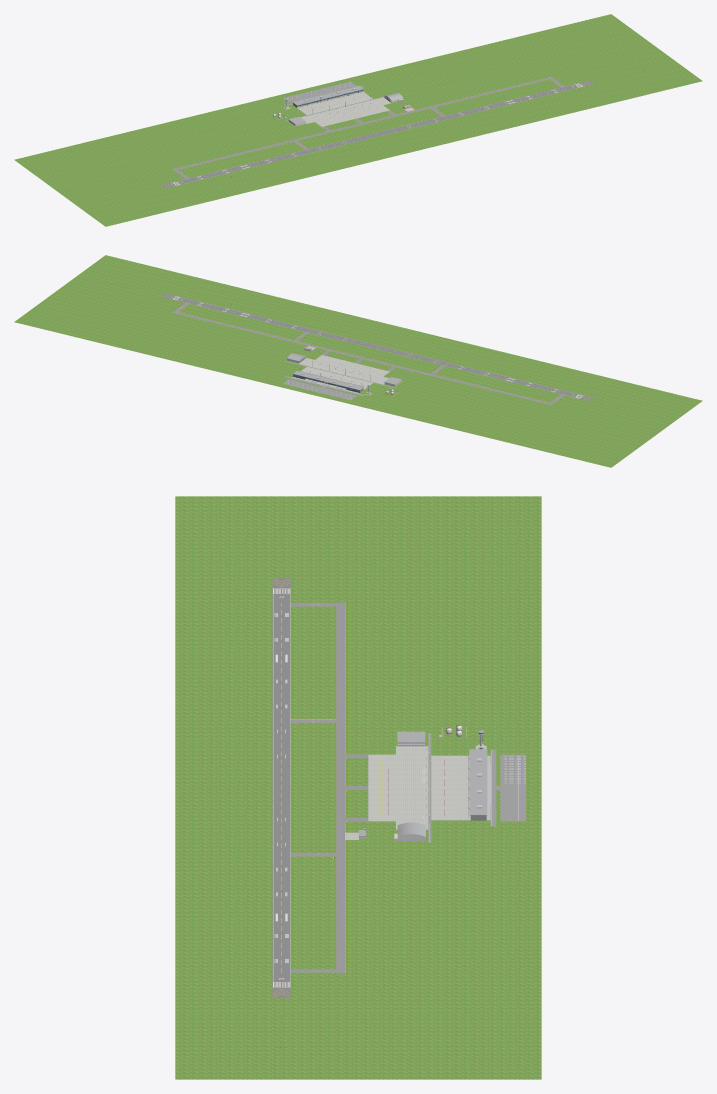
File: Airport.glb
3 views of the same model, one above another, from view 1: azimuth 30°, elevation 25°; view 2: azimuth 150°, elevation 25°; view 3: azimuth 270°, elevation 25° (orthographic). The views are drawn at different scales.
Parts seen in each view (by area): view 1: Ground_Grass, Ground_Runway, Ground_Apron, Ground_Taxiways, Ground_Roads, Building_Terminal; view 2: Ground_Grass, Ground_Runway, Ground_Apron, Ground_Taxiways, Ground_Roads, Building_Terminal; view 3: Ground_Grass, Ground_Runway, Ground_Apron, Ground_Taxiways, Ground_Roads, Markings_Runway, Building_Terminal.
Part boxes in pixels (bbox=[...]): Ground_Grass: bbox=[14, 14, 702, 226]; Ground_Runway: bbox=[161, 80, 594, 188]; Ground_Apron: bbox=[283, 92, 414, 126]; Ground_Taxiways: bbox=[172, 76, 564, 178]; Ground_Roads: bbox=[283, 81, 384, 121]; Building_Terminal: bbox=[293, 85, 363, 107]; Ground_Grass: bbox=[14, 255, 702, 467]; Ground_Runway: bbox=[161, 293, 594, 401]; Ground_Apron: bbox=[292, 346, 389, 395]; Ground_Taxiways: bbox=[172, 303, 564, 405]; Ground_Roads: bbox=[283, 360, 396, 400]; Building_Terminal: bbox=[293, 370, 363, 392]; Ground_Grass: bbox=[175, 496, 541, 1079]; Ground_Runway: bbox=[272, 578, 290, 997]; Ground_Apron: bbox=[345, 745, 490, 839]; Ground_Taxiways: bbox=[290, 602, 368, 973]; Ground_Roads: bbox=[428, 733, 525, 842]; Markings_Runway: bbox=[273, 578, 290, 996]; Building_Terminal: bbox=[469, 749, 490, 820].
Size of the model in its own units: 3500 by 54.35 by 930.
Materials: 34 (5 with a texture image).
